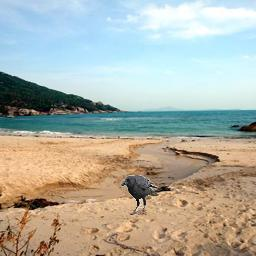Crow: (121, 175, 159, 215)
